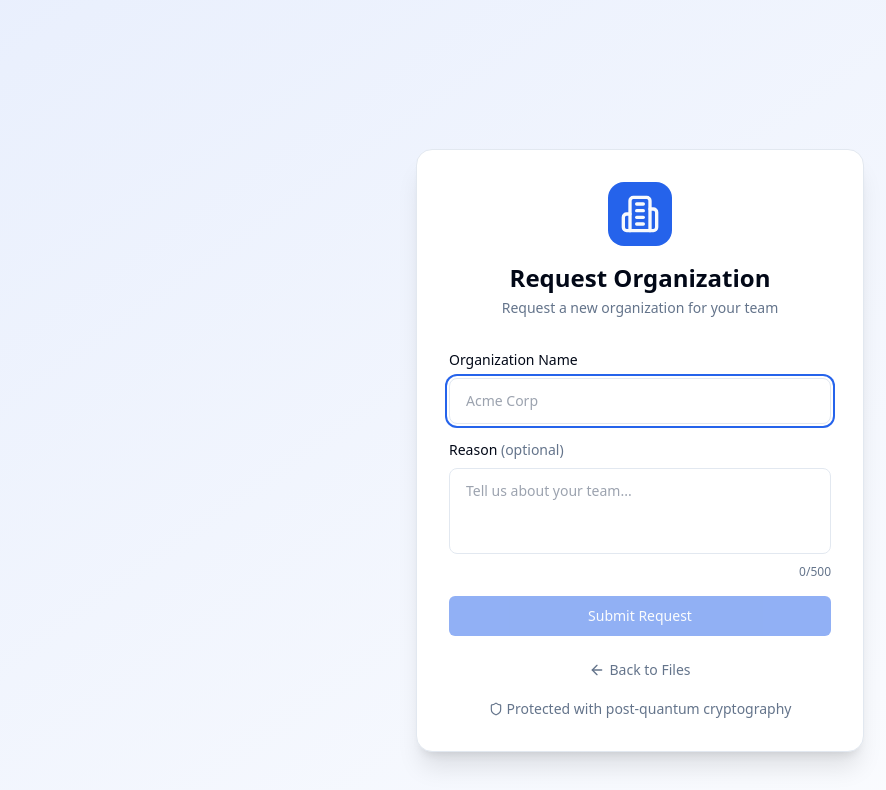
TenantRequestPage › form submission › should show loading state during submission
Type "Test Org" into the field with placeholder "Acme Corp" at (640, 400), box [449,378,831,424]
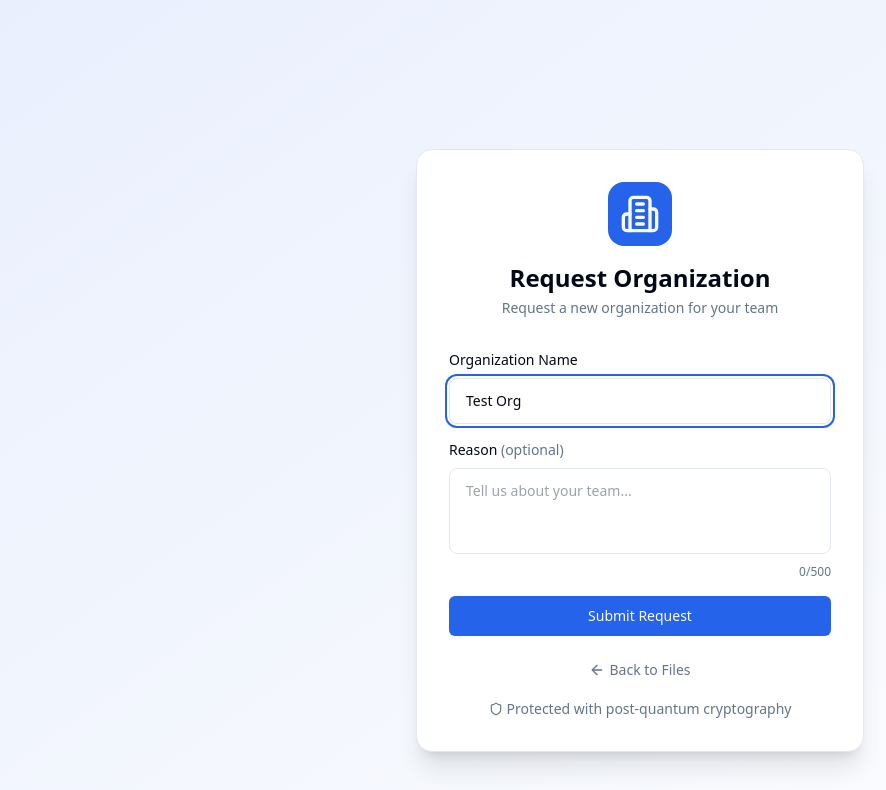
Click the button "Submit Request" at (640, 616), box [449,596,831,636]
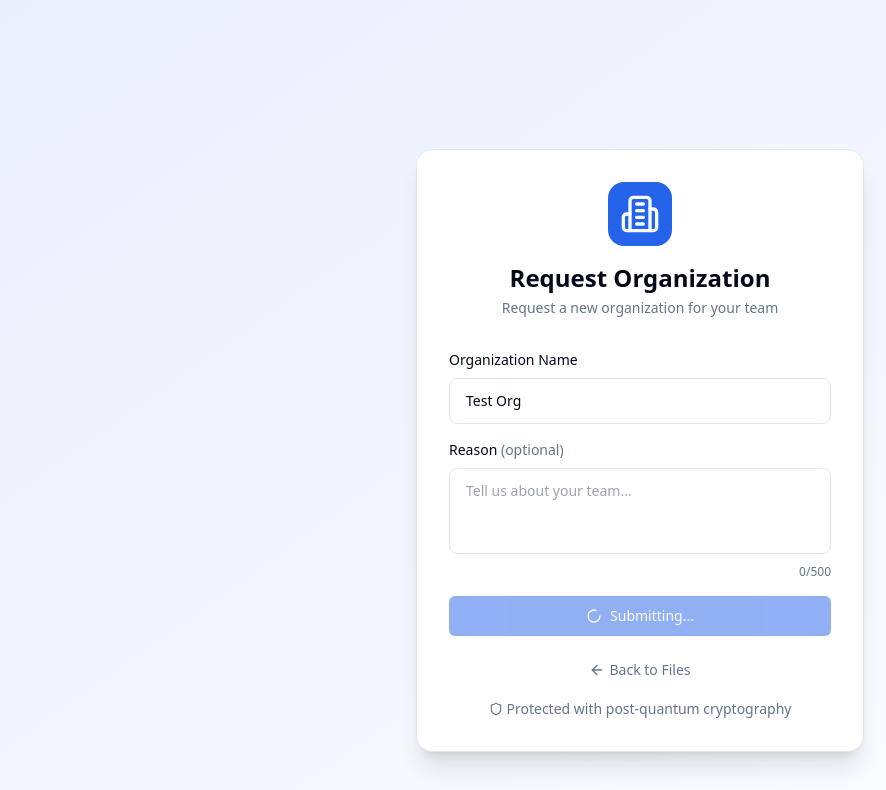
expect the button "Submitting..." is shown: met, box [449,596,831,636]
